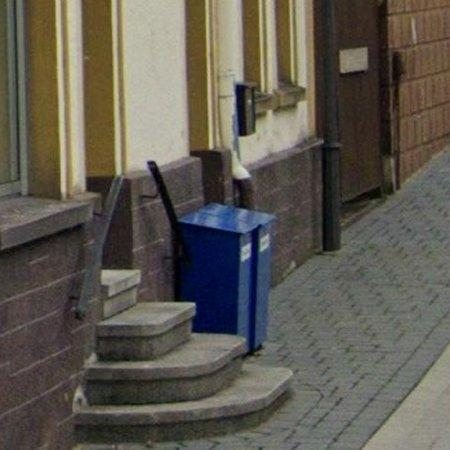stairs: (74, 304, 293, 444)
